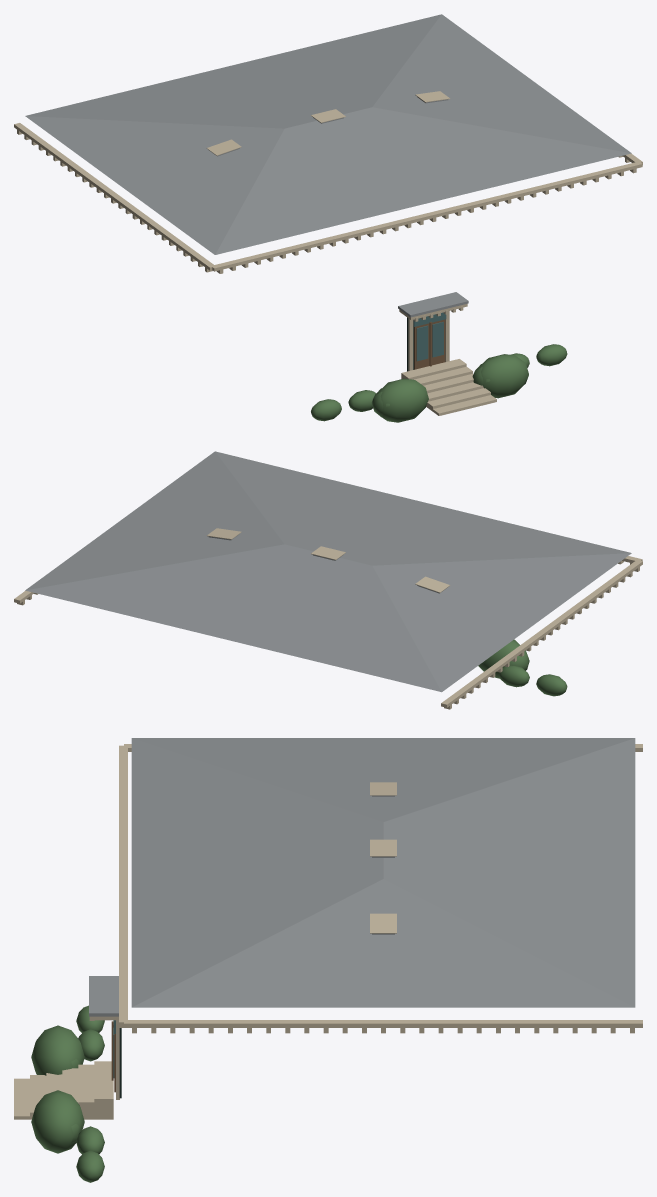
The model's file is johnson-gable-hip-overlay-2026-11-04.glb.
The picture shows the model from 3 angles, top to bottom: view 1: azimuth 30°, elevation 25°; view 2: azimuth 150°, elevation 25°; view 3: azimuth 270°, elevation 25°; orthographic projection. The views are drawn at different scales.
Parts seen in each view (by area): view 1: johnson-part-0, johnson-part-1; view 2: johnson-part-0, johnson-part-1; view 3: johnson-part-0, johnson-part-1.
Boxes of the visible parts, <box> form: johnson-part-0: <box>14,14,642,415</box>; johnson-part-1: <box>311,344,567,422</box>; johnson-part-0: <box>14,451,642,709</box>; johnson-part-1: <box>478,639,567,696</box>; johnson-part-0: <box>14,738,642,1119</box>; johnson-part-1: <box>31,1005,104,1182</box>.
Size of the model in its own units: 34.58 by 15.48 by 32.85.
